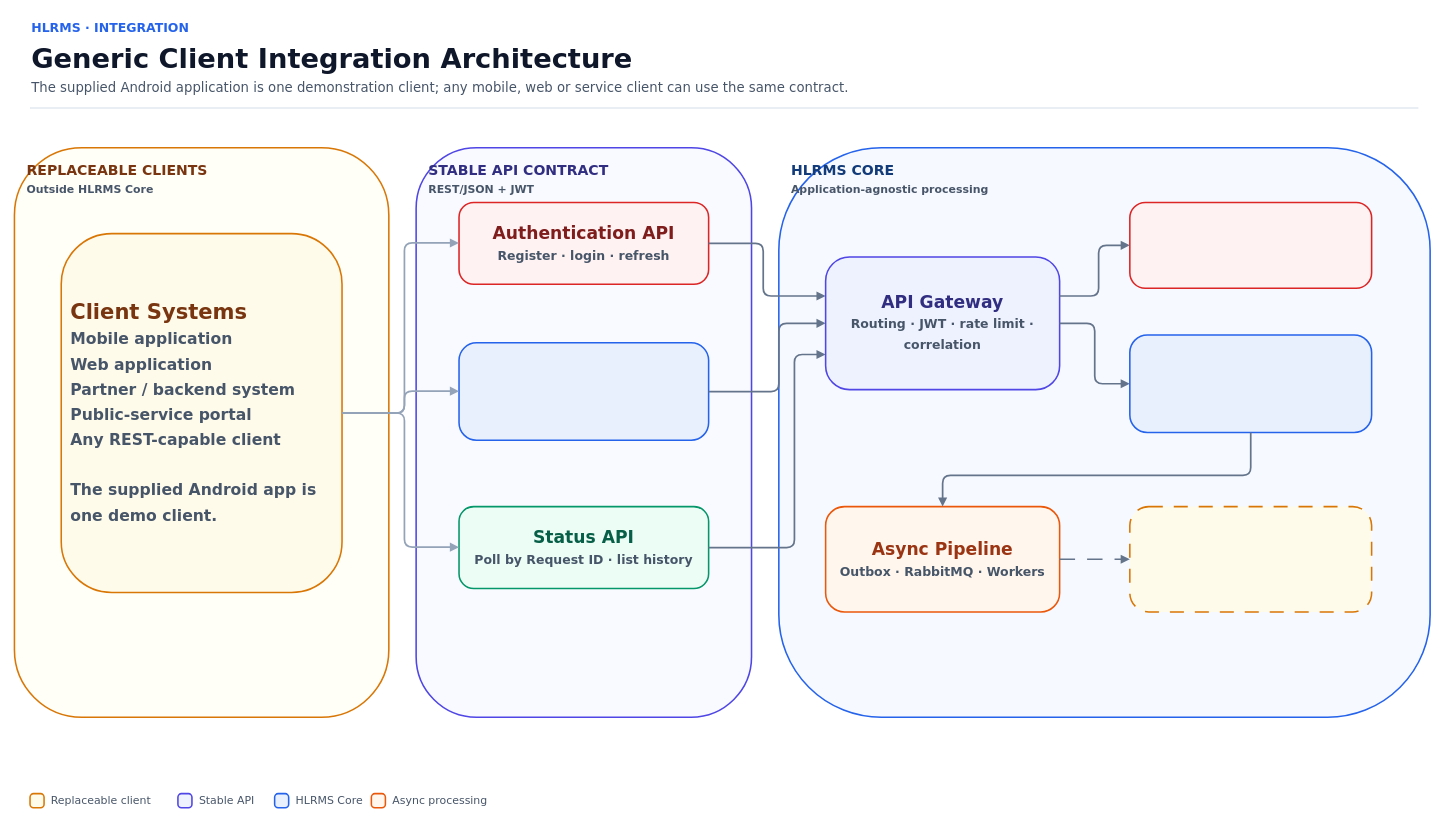
This 1444x825 diagram has some shape labels left out. The shapes that lost their labels are listed below. From the top down, each one's centre as x and y in pixels, then its label:
At point 1250,245: "Auth Service Identity · tokens · RBAC".
At point 583,391: "Request API Submit with Idempotency-Key receive Request ID".
At point 1250,383: "Request Service Validate · deduplicate · persist · status".
At point 1250,558: "Optional Business Adapter Replaceable client-domain execution".
